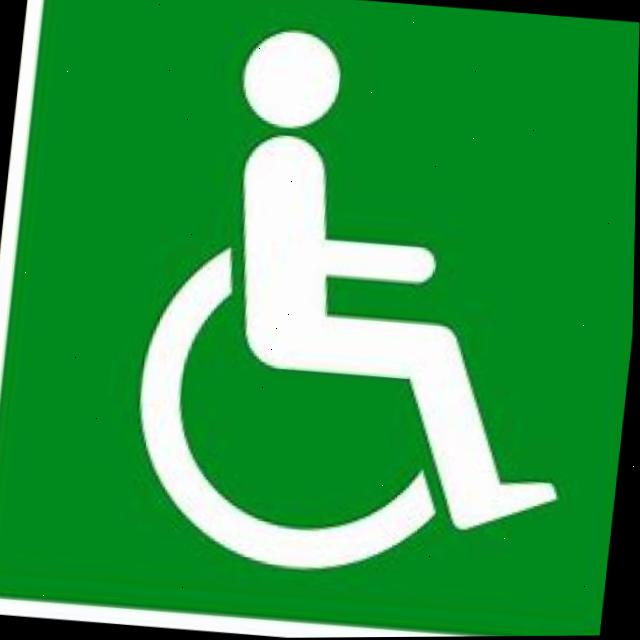symbol_of_access: (123, 17, 608, 602)
